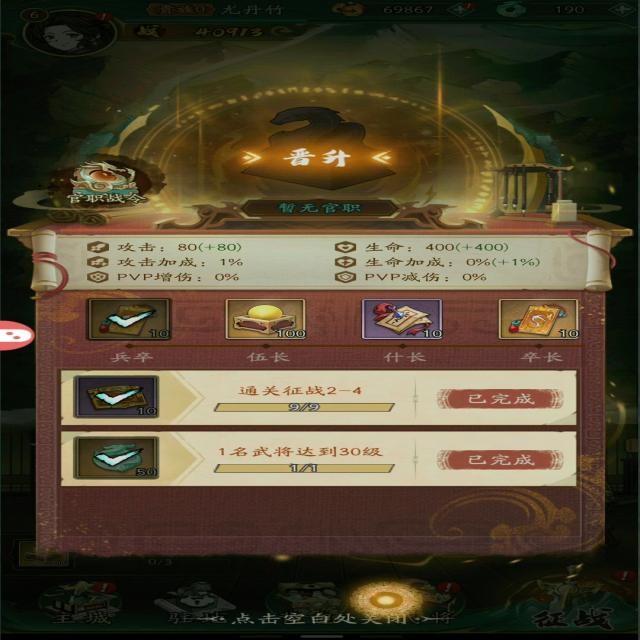operation-RankBattletoken: (46, 148, 152, 208)
operation-confirm-off: (436, 383, 565, 416), (434, 440, 574, 470)
operation-promotion: (239, 118, 403, 194)
